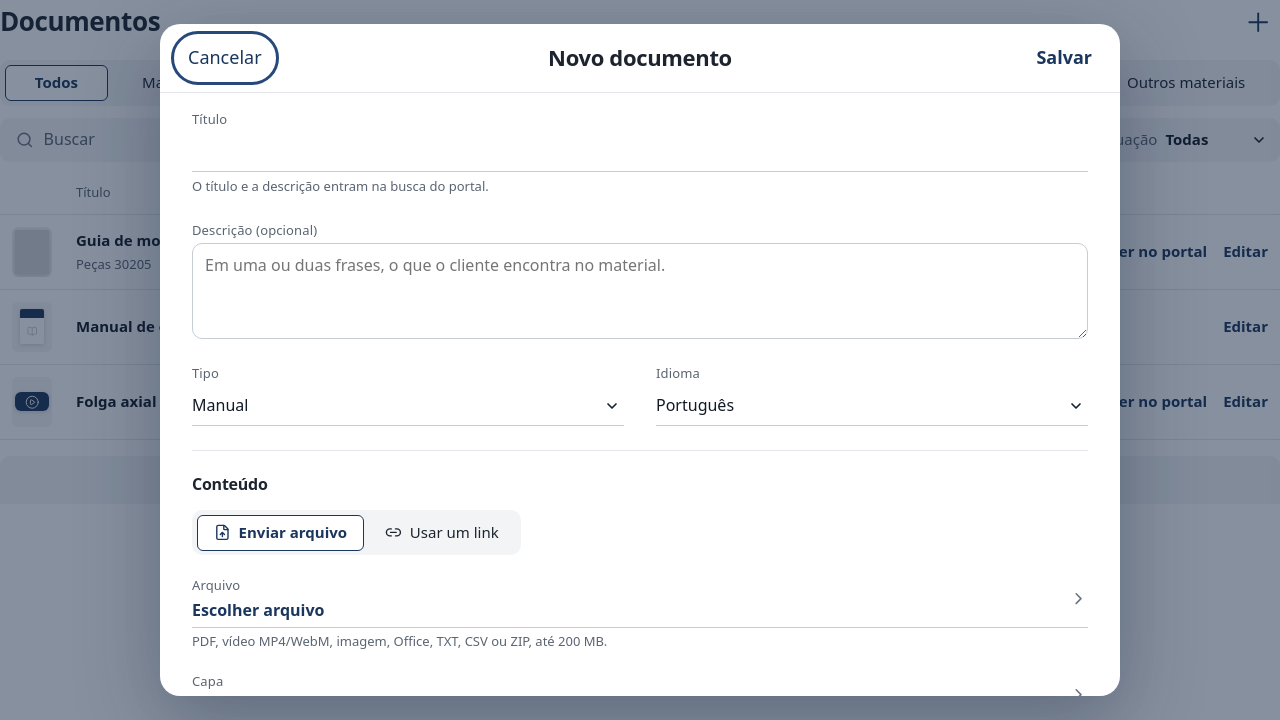
Test case: Cadastro de documento › sem arquivo, não envia e marca o campo
Expected: the button "Salvar" is shown, [1024, 36, 1104, 80]
In the field labelled "Título": x=640, y=152 [192, 132, 1088, 172], type "Manual sem arquivo"
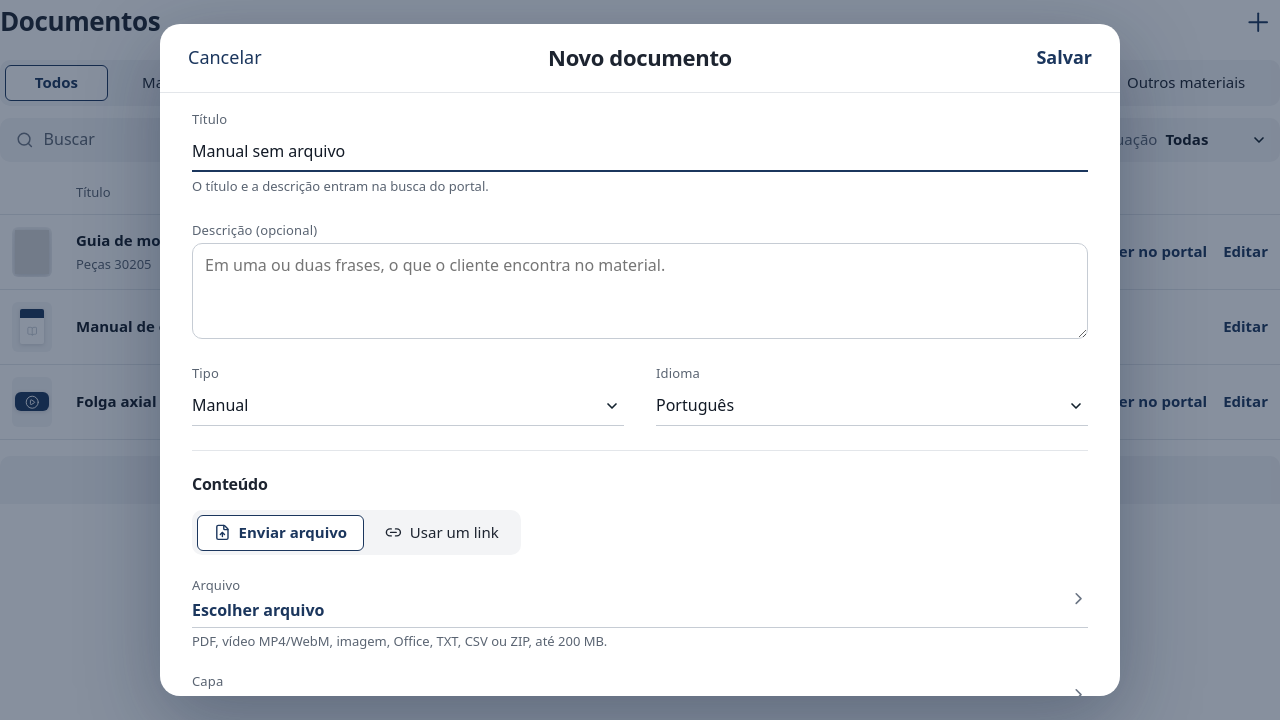
Click the button "Salvar": x=1064, y=58 [1024, 36, 1104, 80]
(page scrolled)
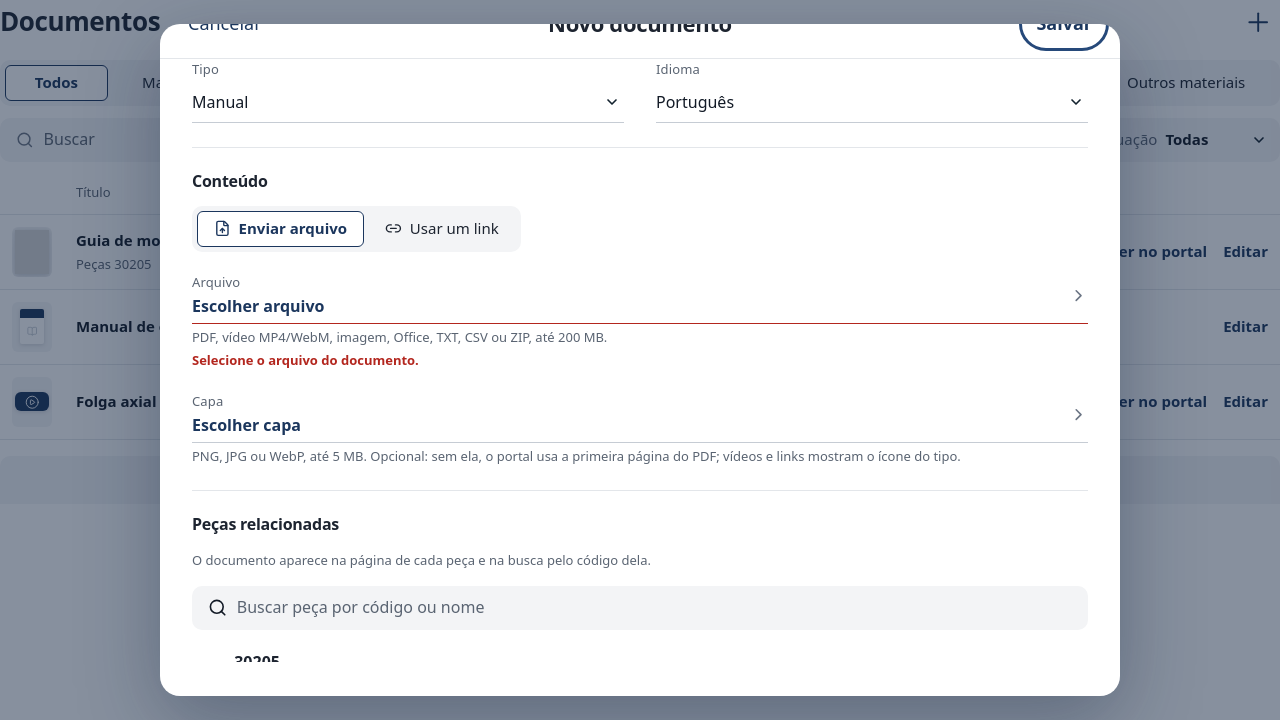
Result: the text "Selecione o arquivo do documento." is shown at [192, 351, 419, 369]
